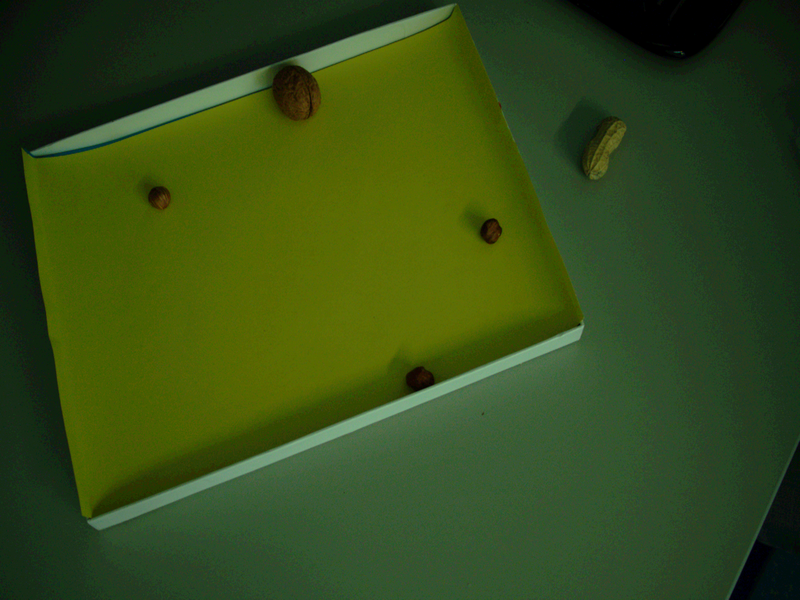walnut: (268, 61, 331, 126)
